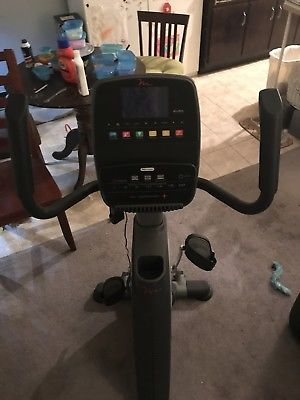gym_bike: (2, 71, 287, 384)
